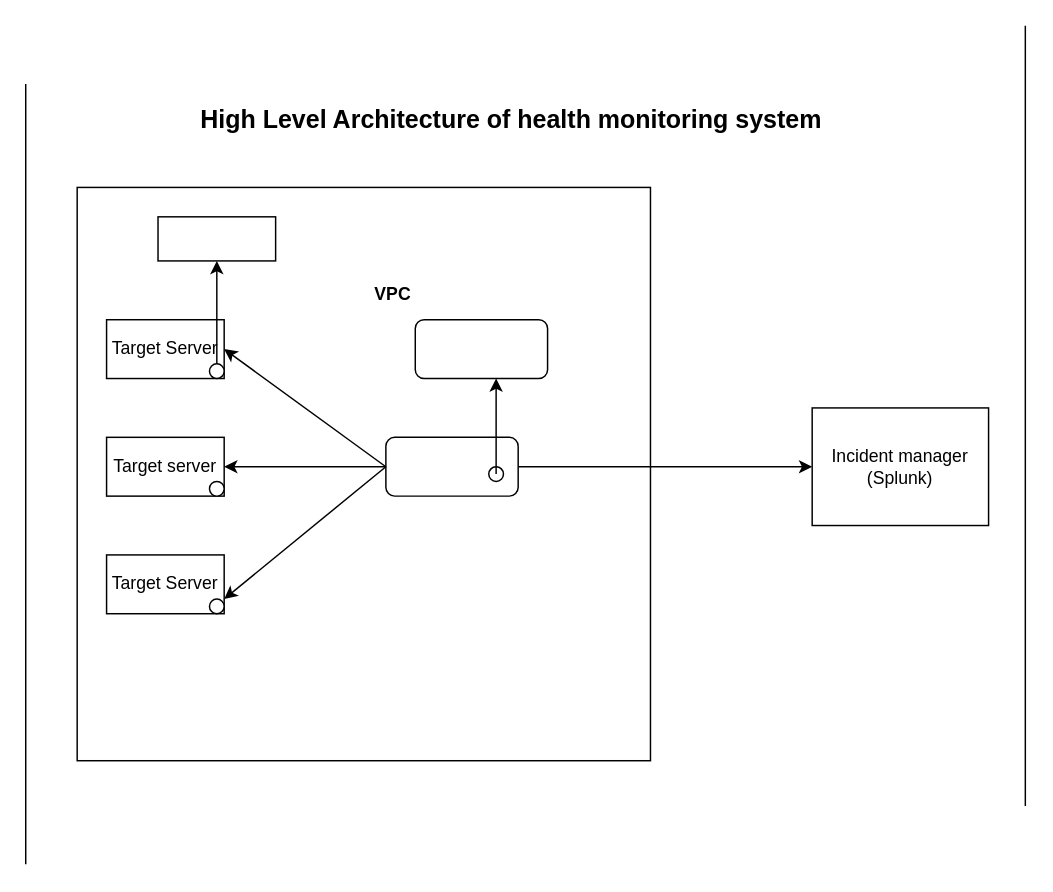
Some shapes in this 1053 by 892 pixel diagram are drawn without their labels. The shapes that lost their labels are listed below. From the top down, each one's centre as x and y in pixels, then its label:
At [216,238]: "Exporters".
At [481,348]: "Alertmanager".
At [451,466]: "prometheus server".
